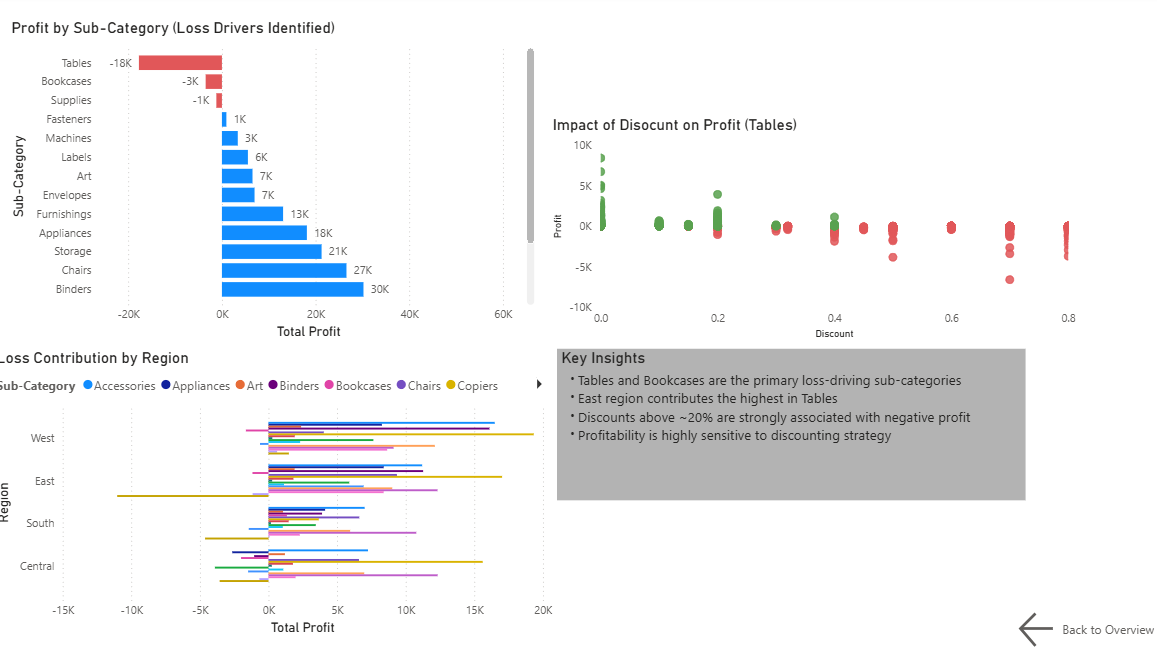

What the dashboard file says about the page in this screenshot:
{"tool":"powerbi","page":{"name":"Profitability & Loss Driver Analysis","canvas":[1280,720],"ordinal":1},"visuals":[{"type":"clusteredBarChart","title":"Profit by Sub-Category (Loss Drivers Identified)","fields":{"Category":["Sample - Superstore.Sub-Category"],"Y":["Sample - Superstore.Total Profit"]},"box":[16,26,584,357],"z":0},{"type":"clusteredBarChart","title":"Loss Contribution by Region","fields":{"Series":["Sample - Superstore.Sub-Category"],"Category":["Sample - Superstore.Region"],"Y":["Sample - Superstore.Total Profit"]},"box":[0,388,620,319],"z":1000},{"type":"actionButton","box":[1122.4,672.1,157.6,48.6],"z":3000},{"type":"scatterChart","title":"Impact of Disocunt on Profit (Tables)","fields":{"X":["Sample - Superstore.Discount"],"Y":["Sample - Superstore.Profit"]},"box":[610,132,584,251],"z":4000},{"type":"textbox","title":"Key Insights","box":[619.6,388.1,514.5,166.3],"z":5000}]}

Visuals, with their boxes in screenshot pixels (x1, y1, x2, y2), scaled from the page's 1280x720 canvas onto the 1157x648 screenshot:
"Profit by Sub-Category (Loss Drivers Identified)" clusteredBarChart: l=14, t=23, r=542, b=345
"Loss Contribution by Region" clusteredBarChart: l=0, t=349, r=560, b=636
actionButton: l=1015, t=605, r=1156, b=647
"Impact of Disocunt on Profit (Tables)" scatterChart: l=551, t=119, r=1079, b=345
"Key Insights" textbox: l=560, t=349, r=1025, b=499
